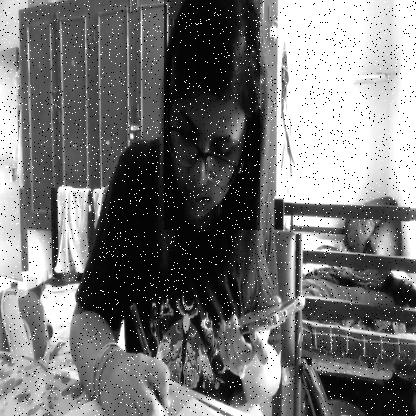Normal: (164, 0, 260, 230)
